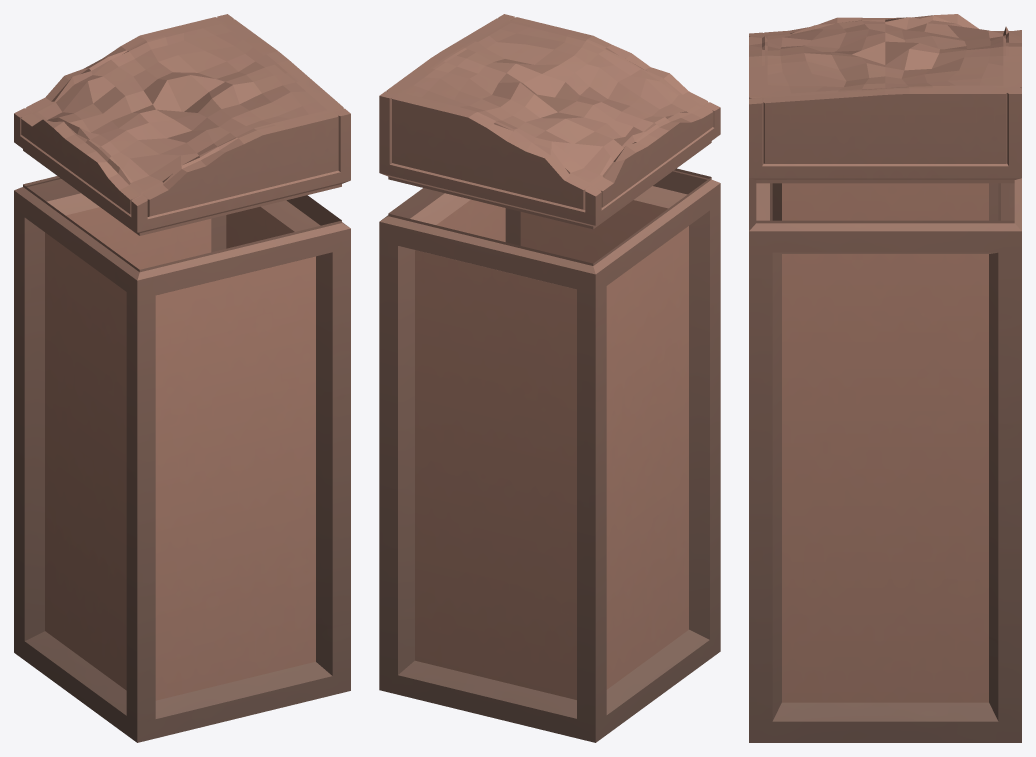
The model's file is obj_Ruins.001.fbx.
3 views of the same model, side by side, from view 1: azimuth 30°, elevation 25°; view 2: azimuth 150°, elevation 25°; view 3: azimuth 270°, elevation 25° (orthographic). The views are drawn at different scales.
Parts seen in each view (by area): view 1: Cube.081; view 2: Cube.081; view 3: Cube.081.
Part boxes in pixels (x1,y1,x2,y2): Cube.081: (14,14,350,742); Cube.081: (379,14,720,742); Cube.081: (749,14,1021,742).
Bounding box in the file's own units: 41.73 × 110 × 41.73.
